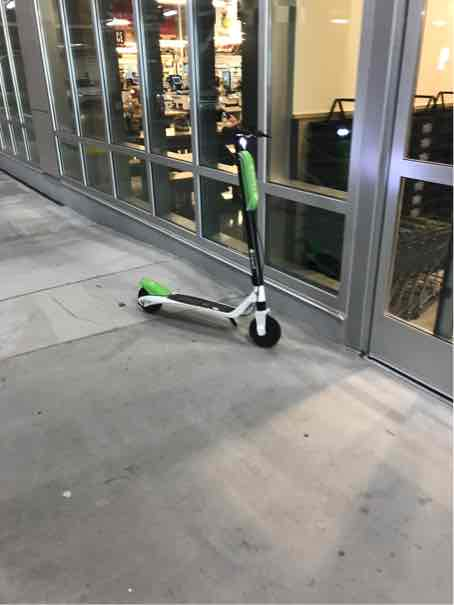scooter: (120, 121, 283, 355)
